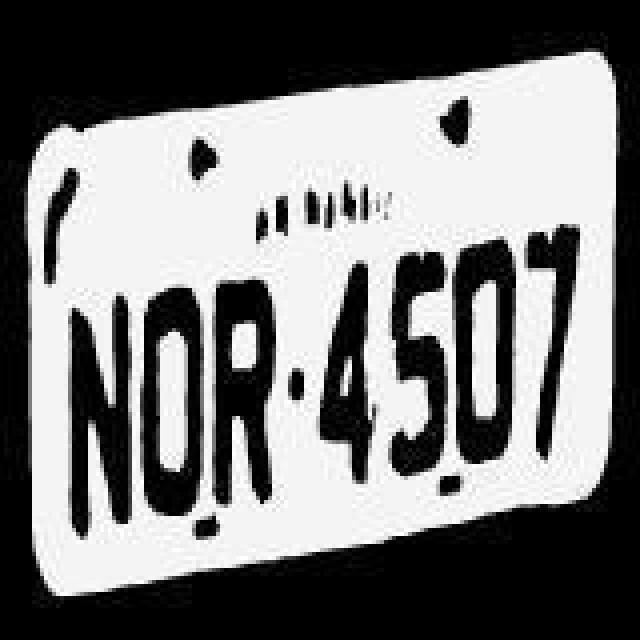4: (316, 258, 388, 510)
5: (386, 250, 454, 478)
7: (520, 196, 600, 476)
N: (58, 286, 134, 538)
O: (134, 258, 210, 518), (452, 234, 524, 470)
R: (202, 276, 286, 508)
